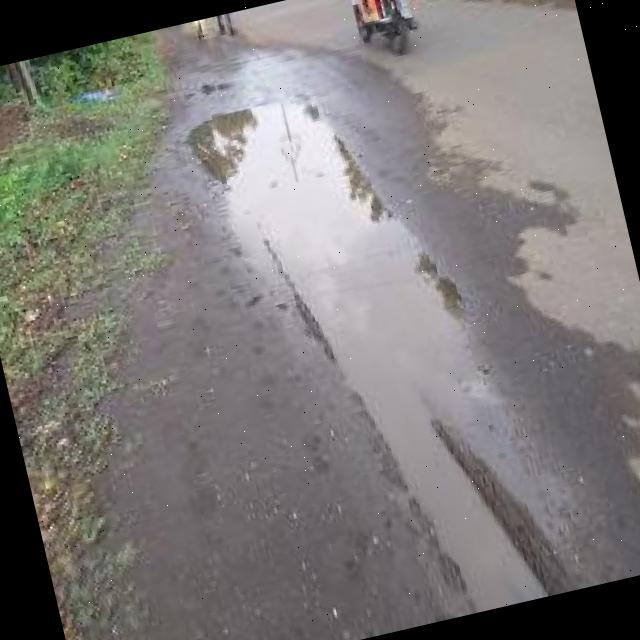waterlogging: (157, 18, 576, 640)
